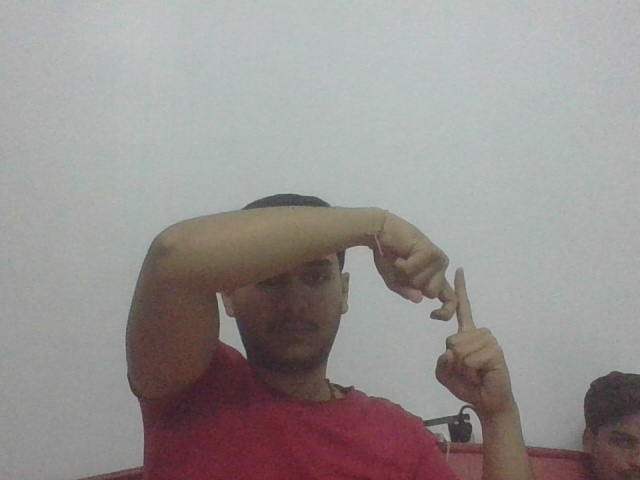K: (419, 265, 498, 342)
